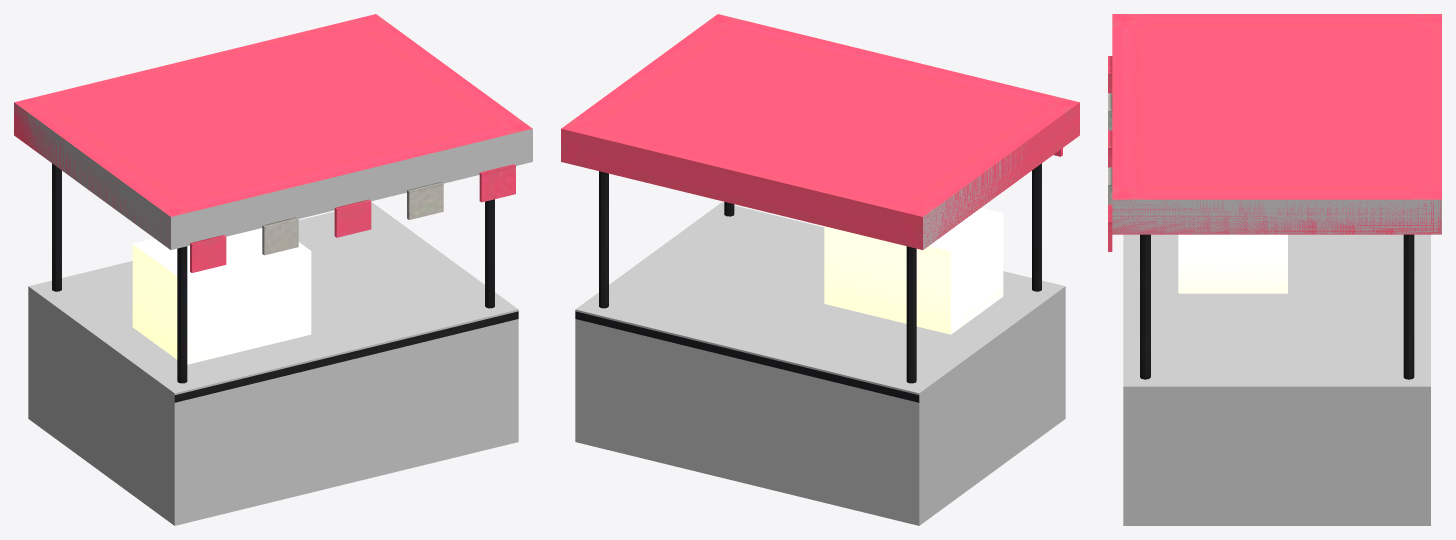
The model's file is popcorn_stand.glb.
3 views of the same model, side by side, from view 1: azimuth 30°, elevation 25°; view 2: azimuth 150°, elevation 25°; view 3: azimuth 270°, elevation 25° (orthographic). The views are drawn at different scales.
Parts seen in each view (by area): view 1: COL_Body, PopcornStand, COL_Canopy; view 2: COL_Body, PopcornStand, COL_Canopy; view 3: COL_Body, PopcornStand, COL_Canopy.
Part boxes in pixels (left/top/right/bottom): COL_Body: left=28, top=202, right=518, bottom=525; PopcornStand: left=14, top=14, right=532, bottom=402; COL_Canopy: left=14, top=102, right=532, bottom=249; COL_Body: left=575, top=202, right=1065, bottom=525; PopcornStand: left=561, top=14, right=1079, bottom=402; COL_Canopy: left=923, top=145, right=1025, bottom=249; COL_Body: left=1123, top=234, right=1430, bottom=525; PopcornStand: left=1108, top=14, right=1441, bottom=379; COL_Canopy: left=1112, top=199, right=1441, bottom=234.
Size of the model in its own units: 4 by 3.33 by 3.04.
5 materials, 5 textured.
